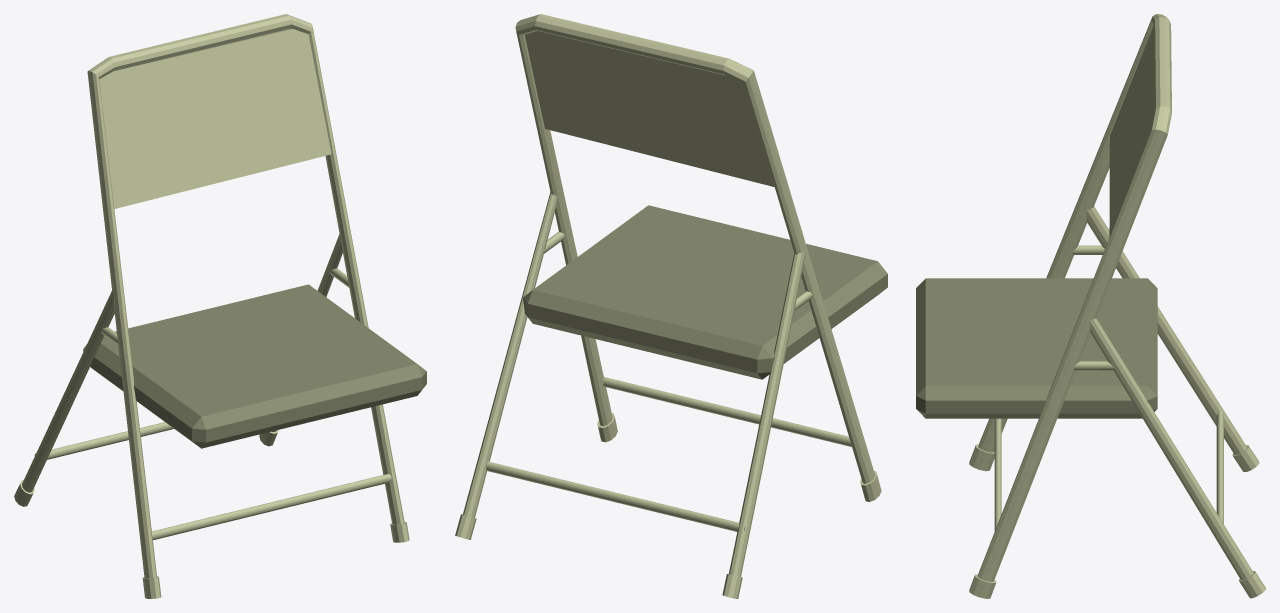
The model's file is Prop_Steelchair_01(1).fbx.
The picture shows the model from 3 angles, left to right: view 1: azimuth 30°, elevation 25°; view 2: azimuth 150°, elevation 25°; view 3: azimuth 270°, elevation 25°; orthographic projection. The views are drawn at different scales.
Parts seen in each view (by area): view 1: pCylinder6; view 2: pCylinder6; view 3: pCylinder6.
Boxes of the visible parts, x1,y1,x2,y2 form: pCylinder6: [14, 14, 426, 598]; pCylinder6: [455, 14, 887, 598]; pCylinder6: [916, 14, 1265, 598].
Bounding box in the file's own units: 56.57 × 97.01 × 64.06.
